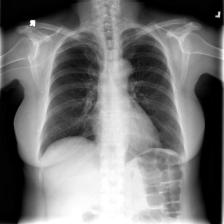normal: (34, 27, 187, 162)
